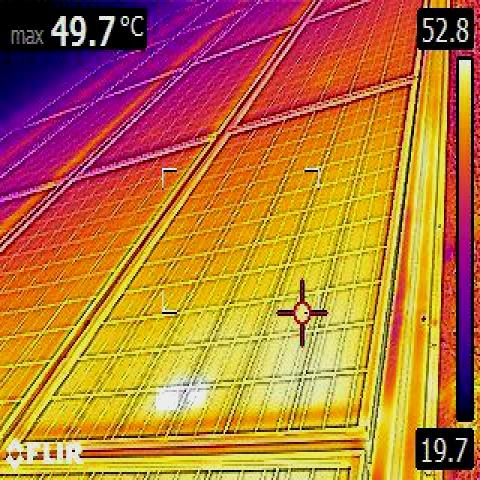fault: (156, 387, 178, 410), (188, 388, 206, 408)
